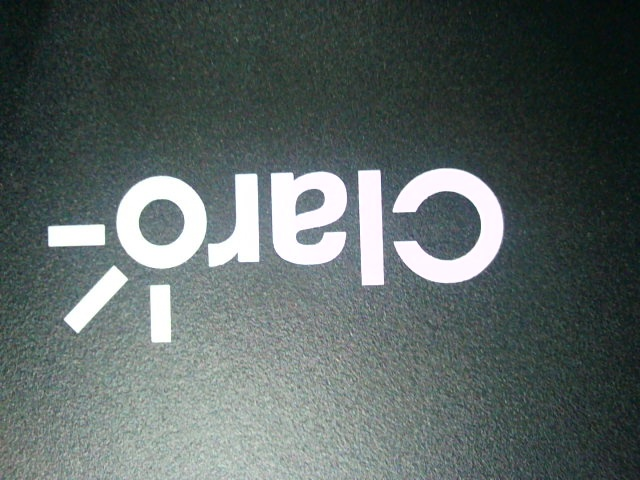BC_Claor: (40, 165, 508, 349)
